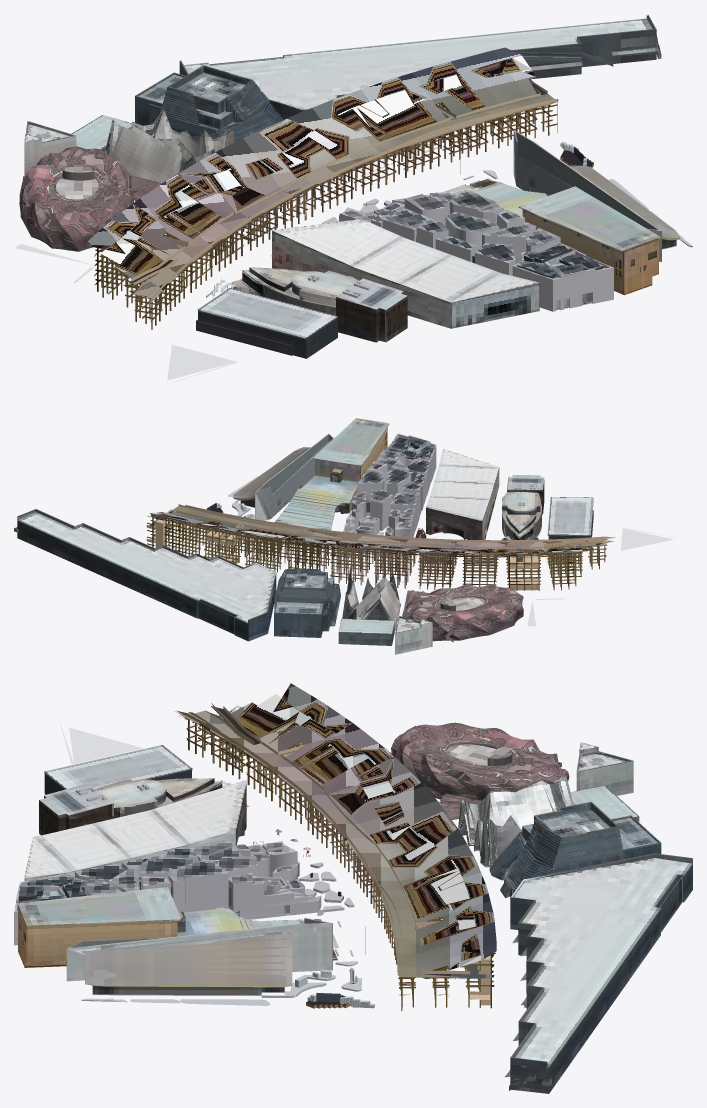
The picture shows the model from 3 angles, top to bottom: view 1: azimuth 30°, elevation 25°; view 2: azimuth 150°, elevation 25°; view 3: azimuth 270°, elevation 25°; orthographic projection. The views are drawn at different scales.
Parts seen in each view (by area): view 1: Buildings_建物パビリオン, GrandRoofRing_大屋根リング, Facilities_都市設備; view 2: Buildings_建物パビリオン, GrandRoofRing_大屋根リング, Facilities_都市設備; view 3: Buildings_建物パビリオン, GrandRoofRing_大屋根リング, Facilities_都市設備.
Part boxes in pixels (x1=…): Buildings_建物パビリオン: x1=14, y1=15, x2=680, y2=385; GrandRoofRing_大屋根リング: x1=84, y1=47, x2=558, y2=329; Facilities_都市設備: x1=206, y1=142, x2=692, y2=298; Buildings_建物パビリオン: x1=14, y1=418, x2=683, y2=654; GrandRoofRing_大屋根リング: x1=146, y1=504, x2=615, y2=590; Facilities_都市設備: x1=206, y1=471, x2=540, y2=559; Buildings_建物パビリオン: x1=14, y1=719, x2=692, y2=1093; GrandRoofRing_大屋根リング: x1=175, y1=683, x2=496, y2=1011; Facilities_都市設備: x1=81, y1=780, x2=374, y2=1008.
Bounding box in the file's own units: 287 × 21.26 × 219.
Materials: 32 (29 with a texture image).
